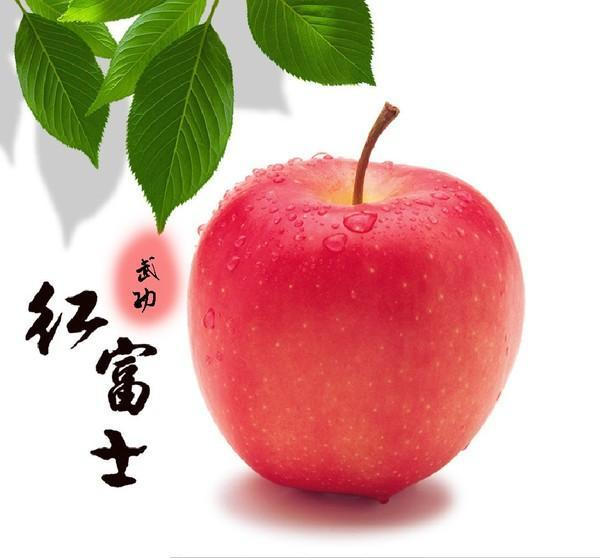apple: (183, 146, 524, 506)
